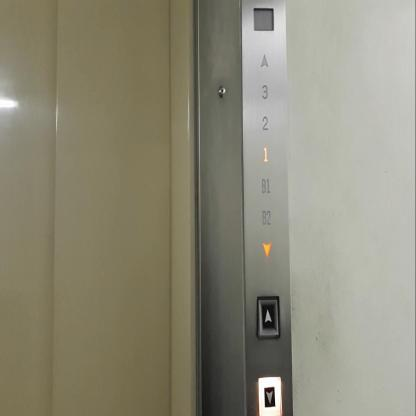down: (258, 376, 280, 416)
up: (257, 296, 280, 338)
